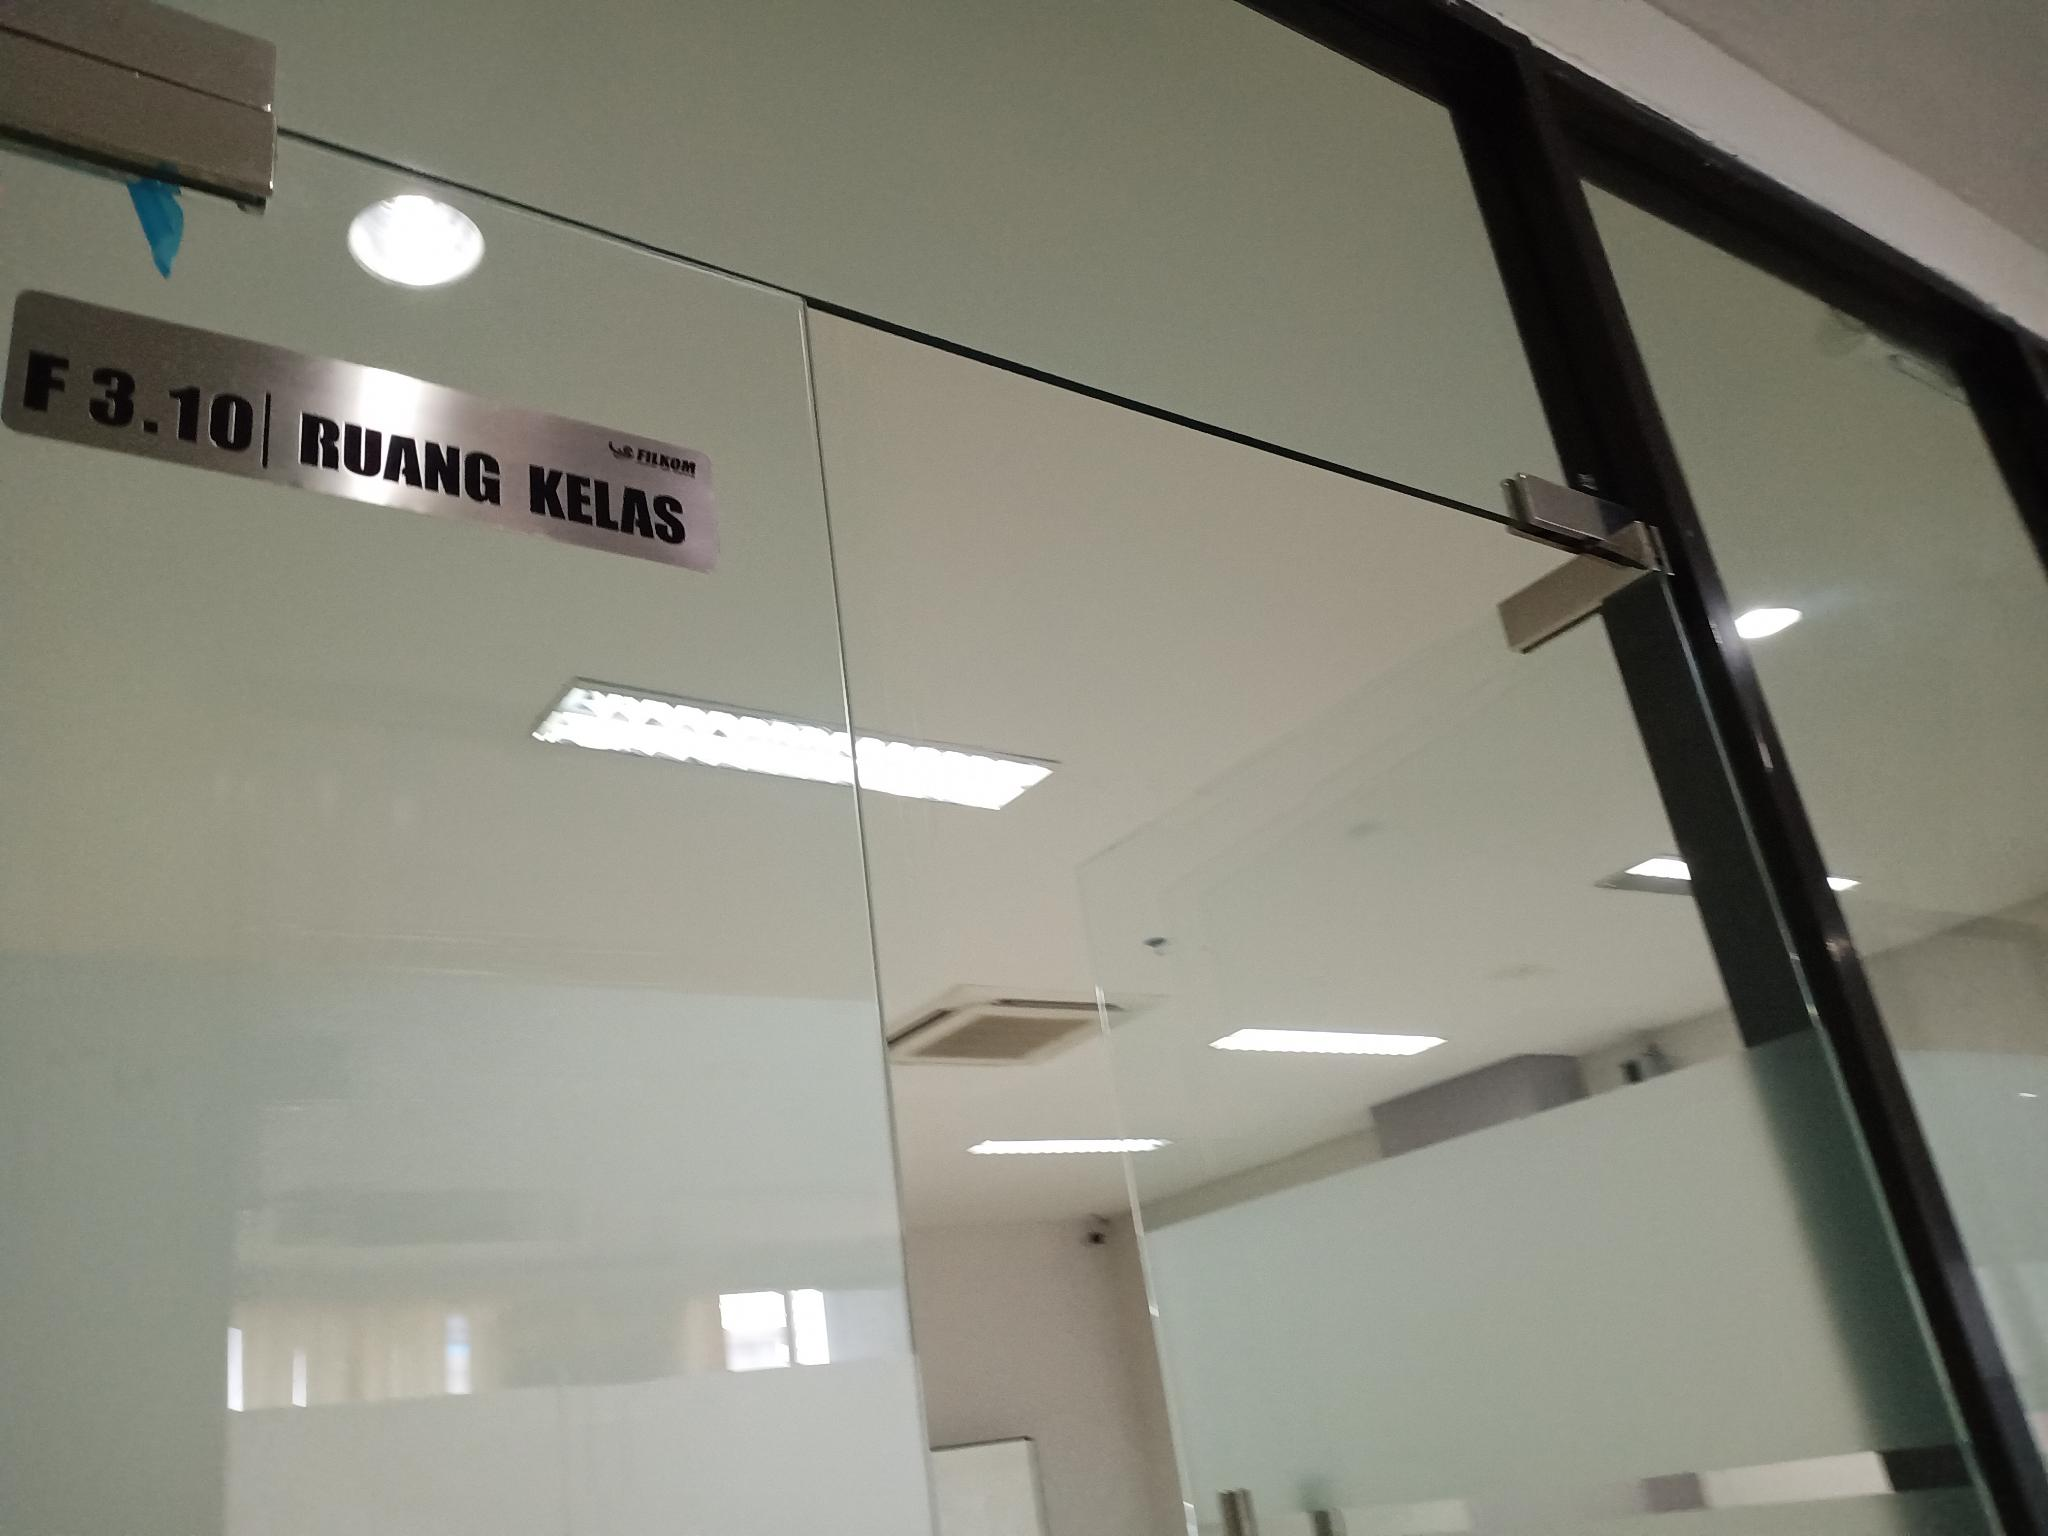plate: (0, 286, 721, 576)
